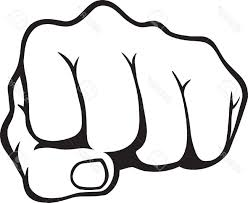fist: (22, 26, 229, 169)
